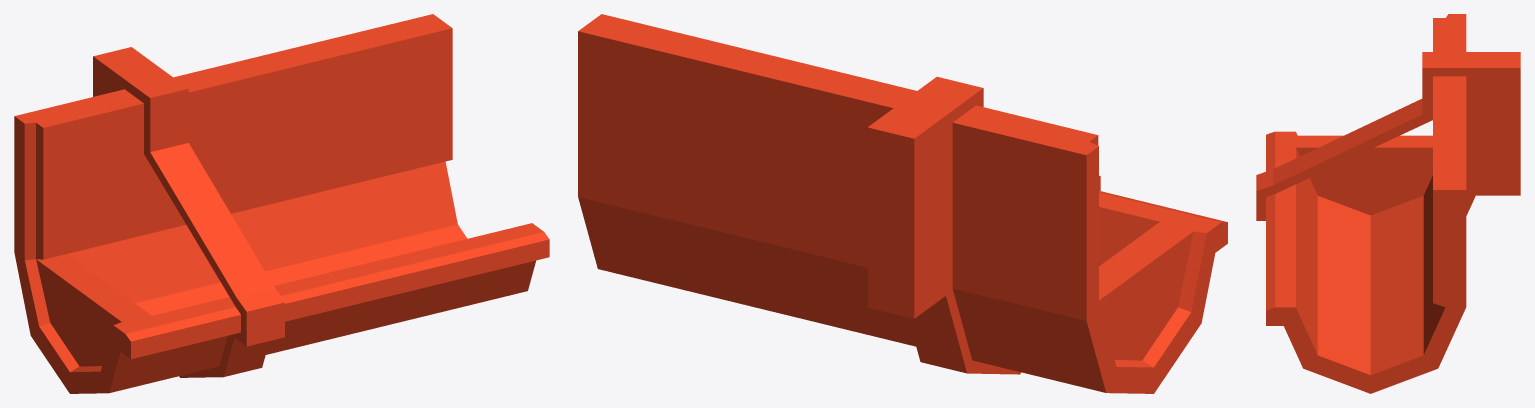
Rendered from SM_Gutter_Regular_End.fbx.
The picture shows the model from 3 angles, left to right: view 1: azimuth 30°, elevation 25°; view 2: azimuth 150°, elevation 25°; view 3: azimuth 270°, elevation 25°; orthographic projection. The views are drawn at different scales.
Visible parts, largest first — view 1: gutter-regular-end; view 2: gutter-regular-end; view 3: gutter-regular-end.
Boxes of the visible parts, x1=… form: gutter-regular-end: x1=14, y1=14, x2=549, y2=393; gutter-regular-end: x1=578, y1=14, x2=1227, y2=393; gutter-regular-end: x1=1256, y1=14, x2=1520, y2=393.
Bounding box in the file's own units: 0.4355 × 0.2563 × 0.2766.
